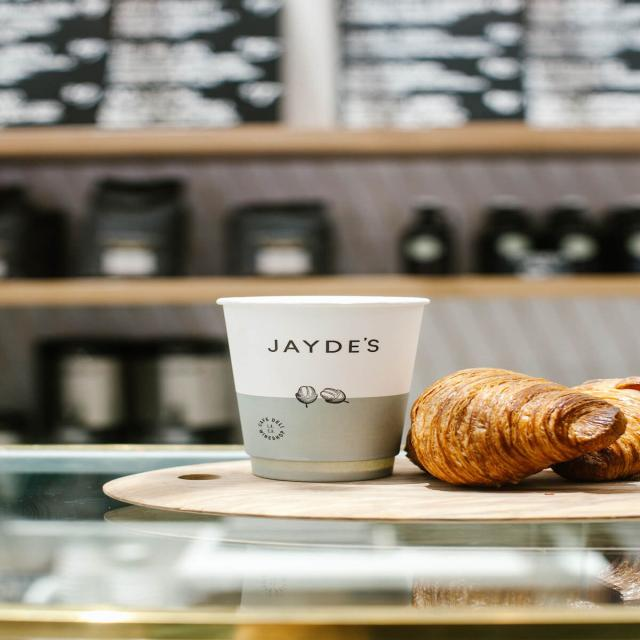paper cup: (216, 296, 431, 483)
